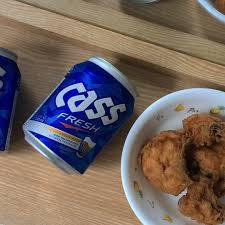beer: (22, 56, 137, 175)
